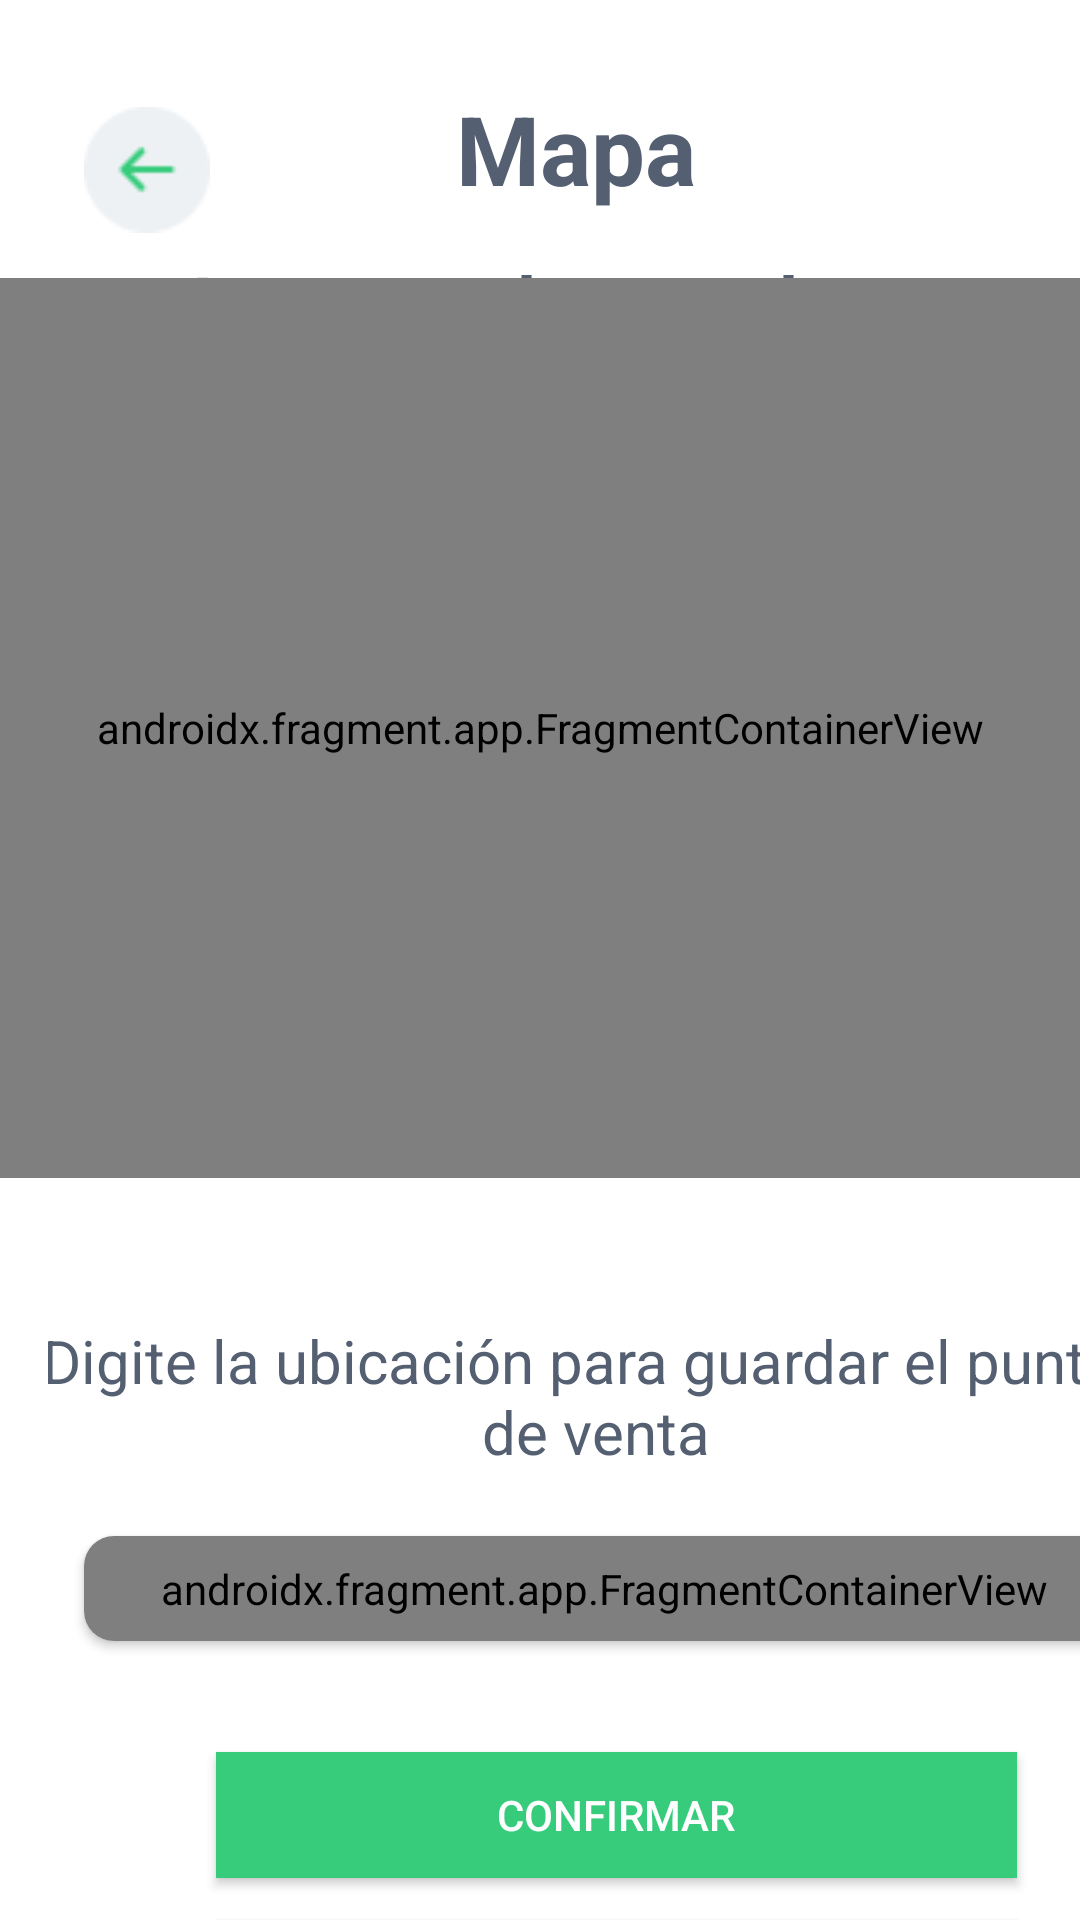

Where icons sit on this 1080×1920 app screen, as bbox=[x1, y1, x2, y2]:
Regresar: bbox=[84, 107, 210, 233]
